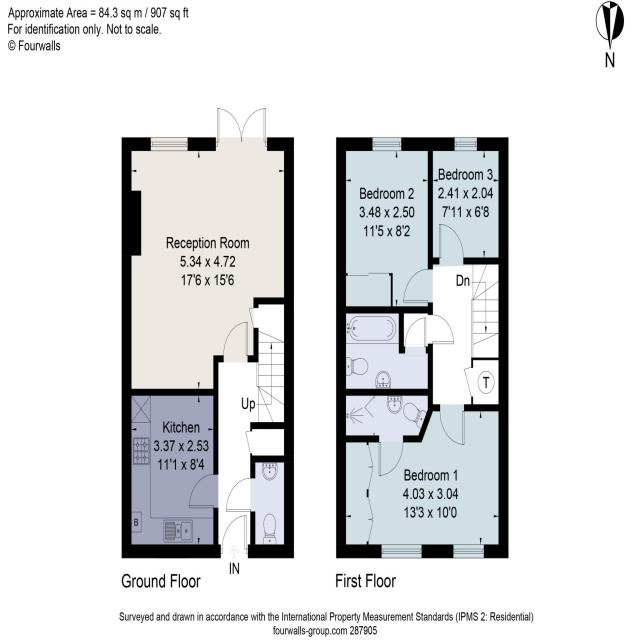DOOR: (220, 514, 250, 559), (222, 318, 251, 363), (401, 266, 433, 305), (187, 472, 219, 510), (438, 404, 466, 447), (438, 222, 466, 265), (378, 435, 405, 477), (225, 476, 255, 513), (428, 312, 457, 347)
DOUBLE DOOR: (214, 104, 268, 150)
ROOM: (122, 105, 294, 389), (336, 388, 509, 558), (121, 389, 219, 559), (336, 137, 433, 307), (432, 137, 508, 265)
WINDOW: (148, 136, 189, 154), (380, 543, 423, 560), (451, 543, 485, 560), (372, 136, 402, 152), (454, 136, 478, 152)
